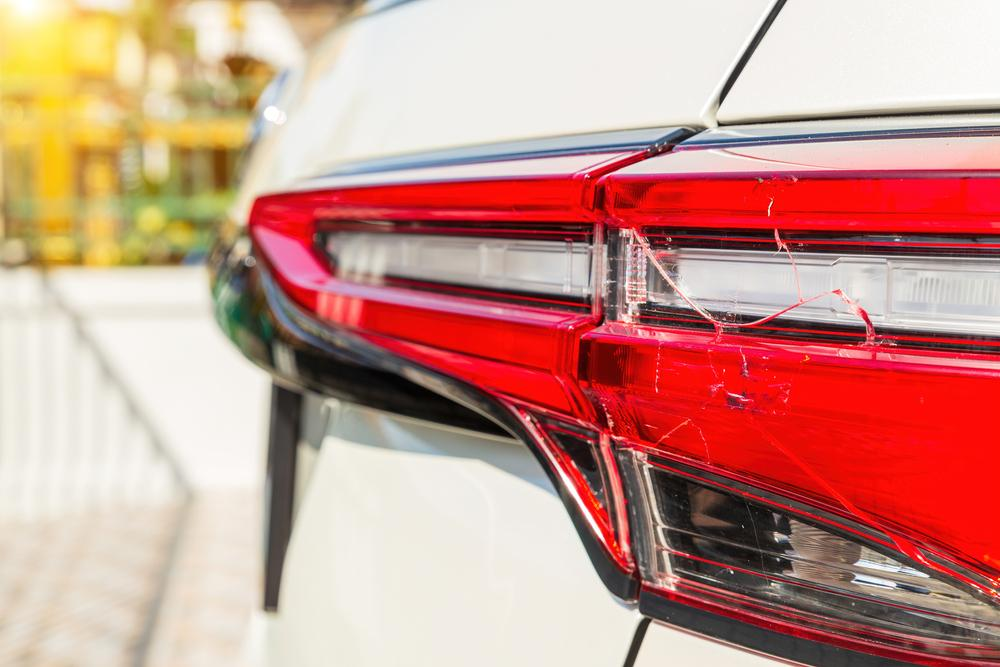lamp broken: (577, 111, 1000, 667)
